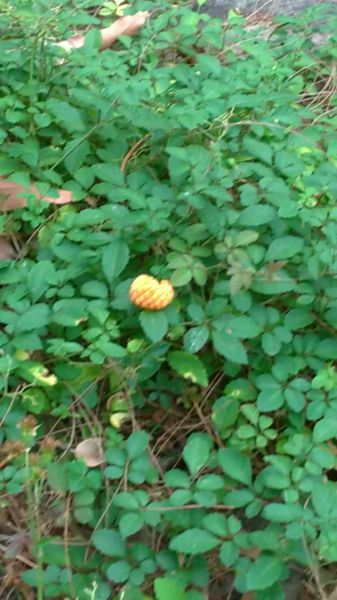eggs: (127, 267, 179, 313)
